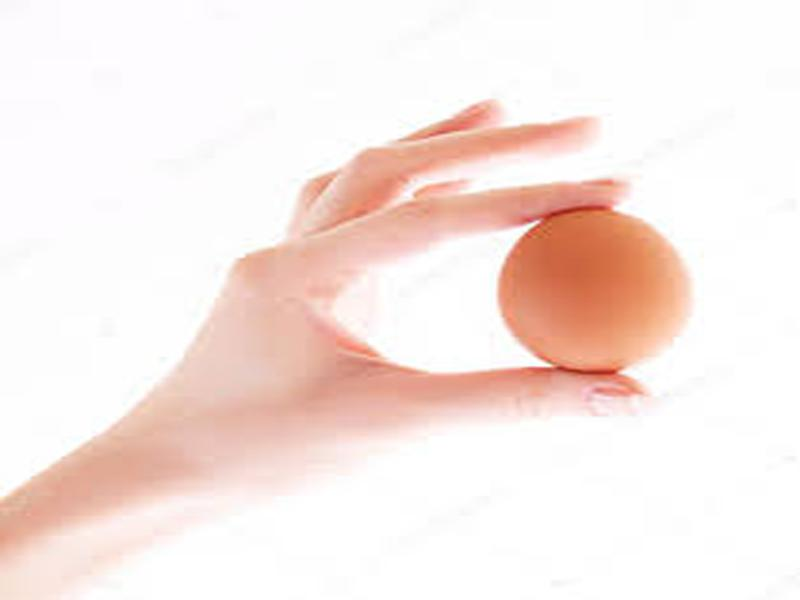Eggs: (501, 206, 689, 374)
